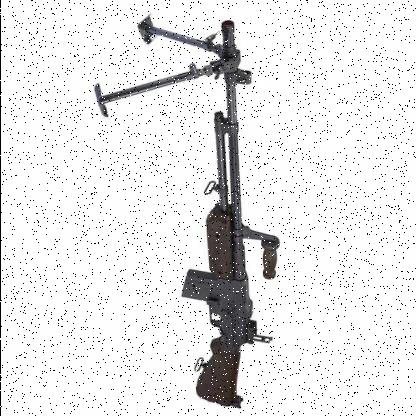rifle: (173, 19, 310, 415)
